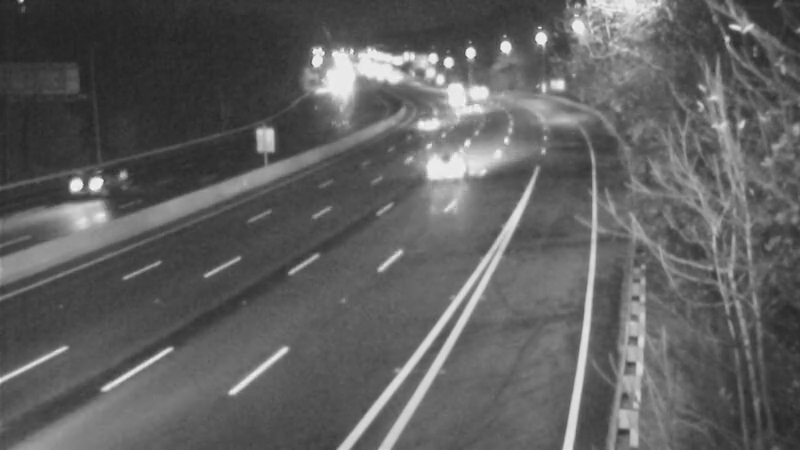vehicle: (417, 129, 497, 209), (47, 147, 127, 227), (451, 64, 501, 114), (427, 75, 477, 125), (435, 83, 485, 133), (395, 96, 445, 146)
